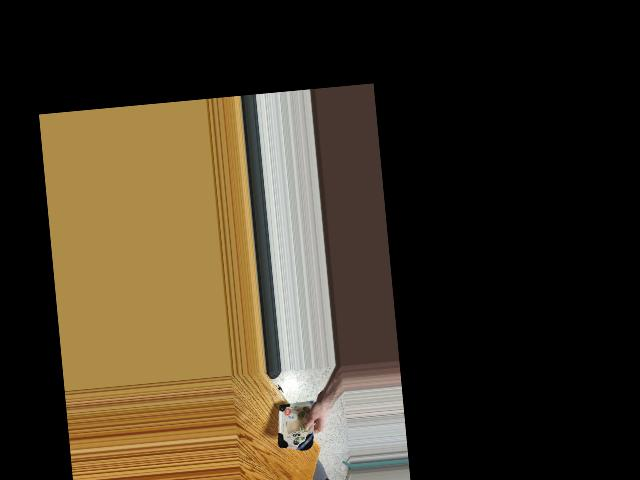cheese: (278, 394, 318, 454)
